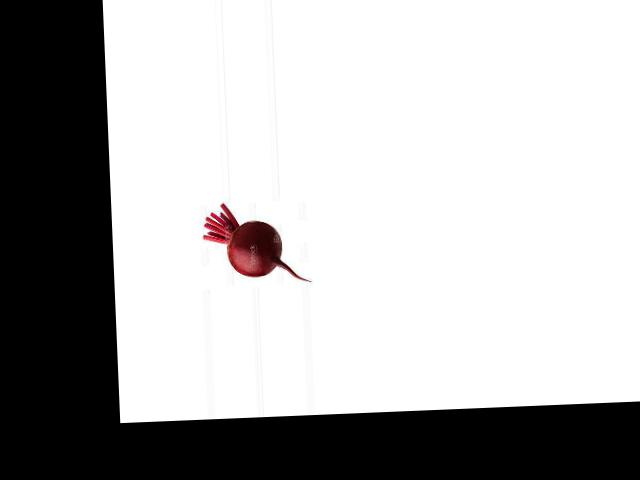beet: (201, 199, 309, 286)
